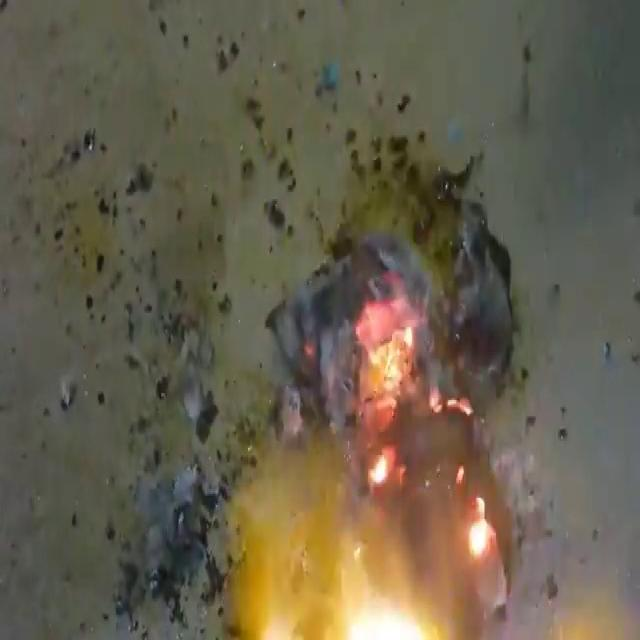Fire: (152, 110, 634, 635)
